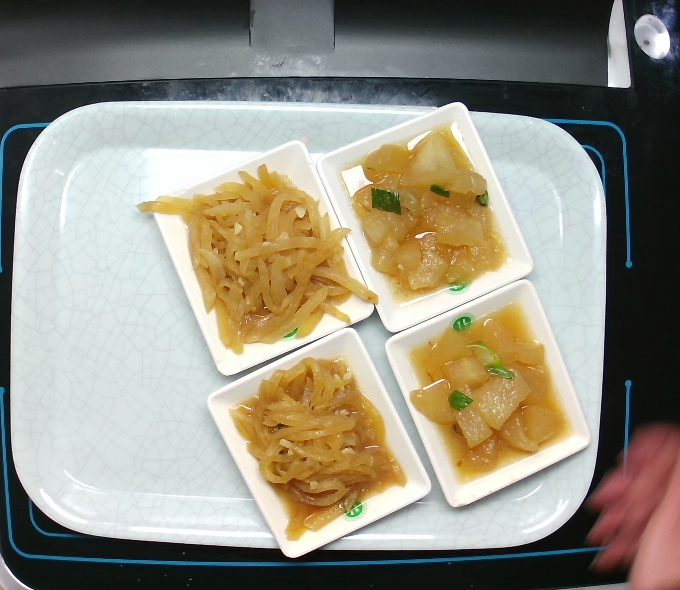wcq-DongGua: (406, 300, 570, 485), (348, 128, 507, 298)
wcq-LuoBoSi: (132, 160, 382, 361), (226, 353, 408, 543)
